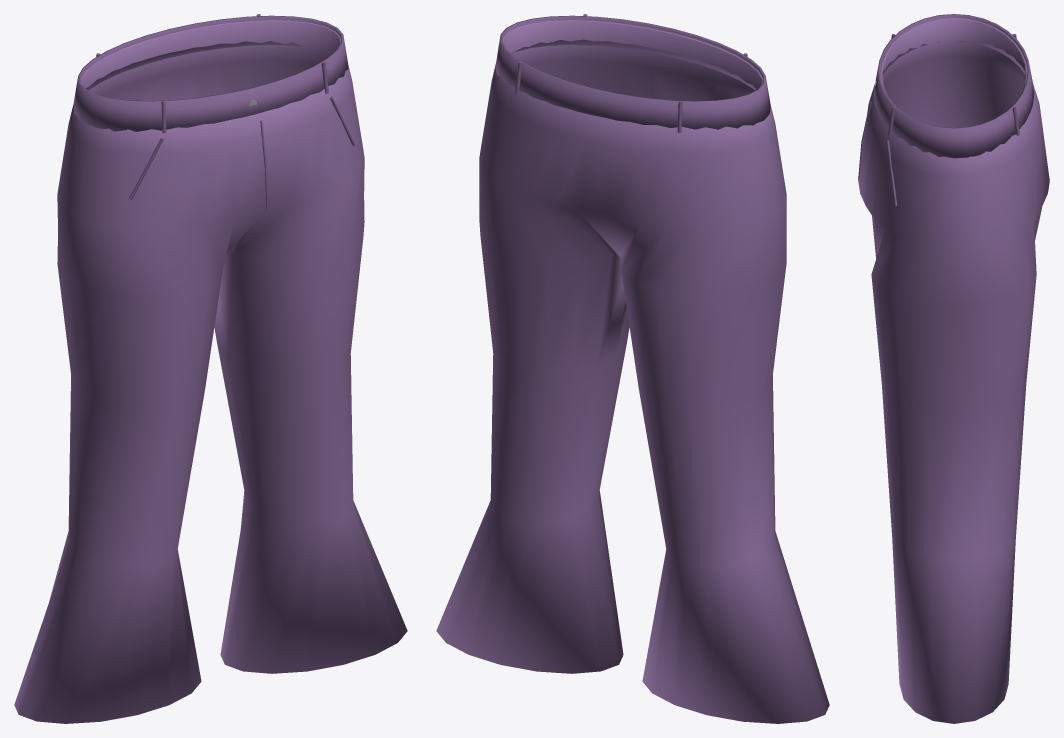
Rendered from pants_flared.glb.
3 views of the same model, side by side, from view 1: azimuth 30°, elevation 25°; view 2: azimuth 150°, elevation 25°; view 3: azimuth 270°, elevation 25° (orthographic). The views are drawn at different scales.
Visible parts, largest first — view 1: Flared_Pants_Connected_Hips_And_Legs, Flared_Pants_Waistband; view 2: Flared_Pants_Connected_Hips_And_Legs, Flared_Pants_Waistband; view 3: Flared_Pants_Connected_Hips_And_Legs, Flared_Pants_Waistband.
Part boxes in pixels (box(x1,y1,x2,y2)): Flared_Pants_Connected_Hips_And_Legs: box(14, 20, 407, 723); Flared_Pants_Waistband: box(73, 15, 348, 131); Flared_Pants_Connected_Hips_And_Legs: box(436, 20, 829, 723); Flared_Pants_Waistband: box(495, 15, 770, 129); Flared_Pants_Connected_Hips_And_Legs: box(858, 18, 1049, 723); Flared_Pants_Waistband: box(873, 14, 1034, 158).
Bounding box in the file's own units: 0.6338 × 0.9622 × 0.2948.
